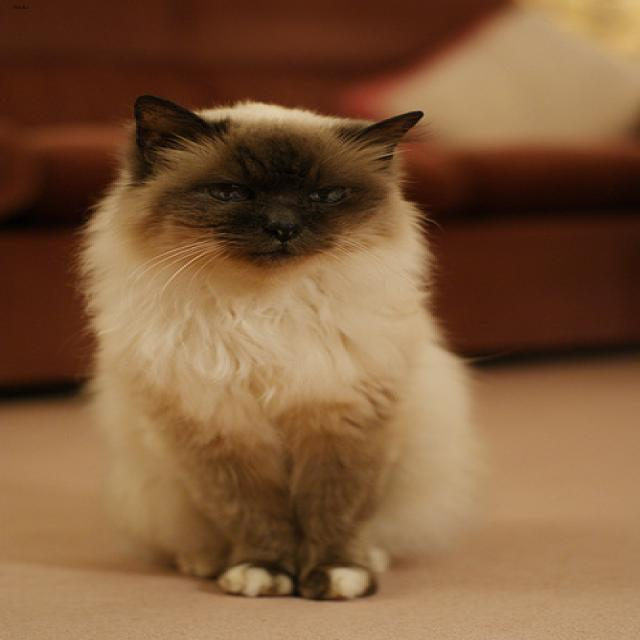Birman: (130, 94, 420, 267)
